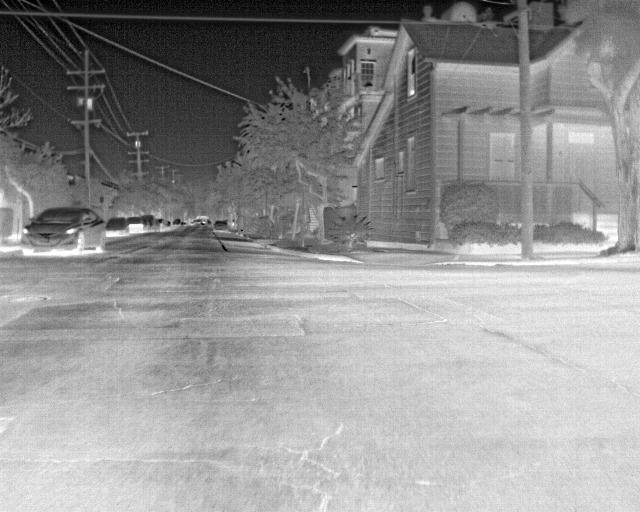bicycle: (20, 207, 106, 253), (104, 217, 130, 236), (126, 216, 144, 235), (142, 216, 161, 234), (212, 219, 228, 233), (170, 218, 183, 230)
